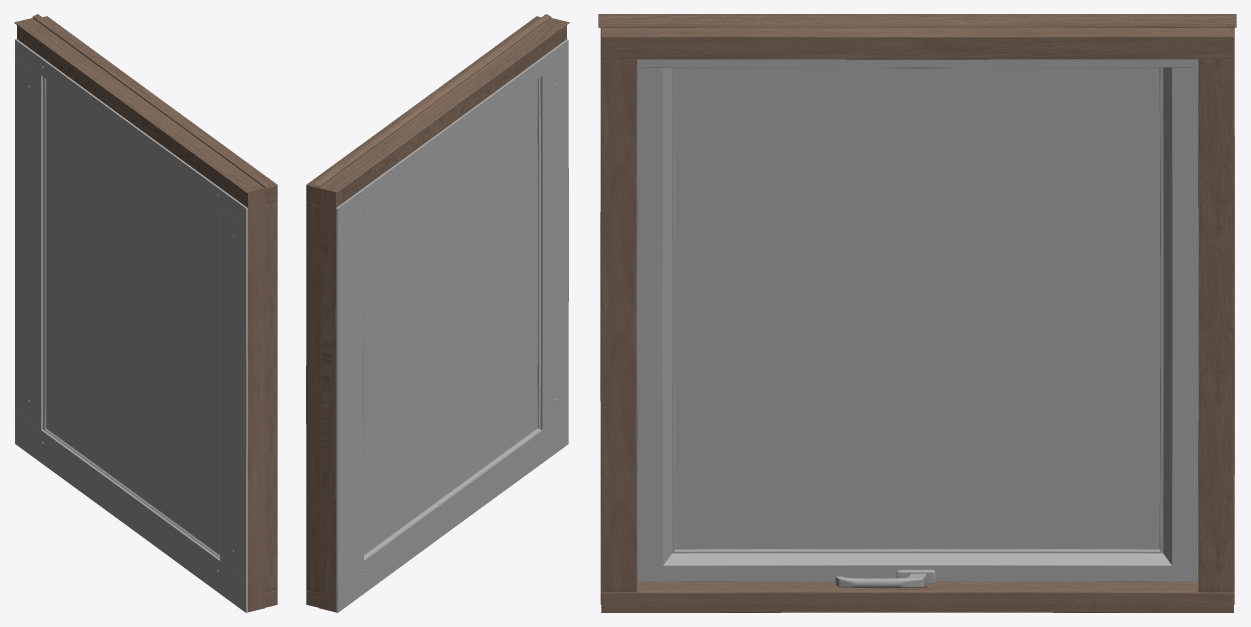
The model's file is Window.fbx.
The picture shows the model from 3 angles, left to right: view 1: azimuth 30°, elevation 25°; view 2: azimuth 150°, elevation 25°; view 3: azimuth 270°, elevation 25°; orthographic projection. The views are drawn at different scales.
Parts seen in each view (by area): view 1: 11; view 2: 11; view 3: 11.
Part boxes in pixels (box(x1,y1,x2,y2)): 11: box(14, 14, 277, 612); 11: box(306, 14, 569, 612); 11: box(598, 14, 1236, 612).
Size of the model in its own units: 16.56 by 198 by 197.
Materials: 2 (1 with a texture image).
